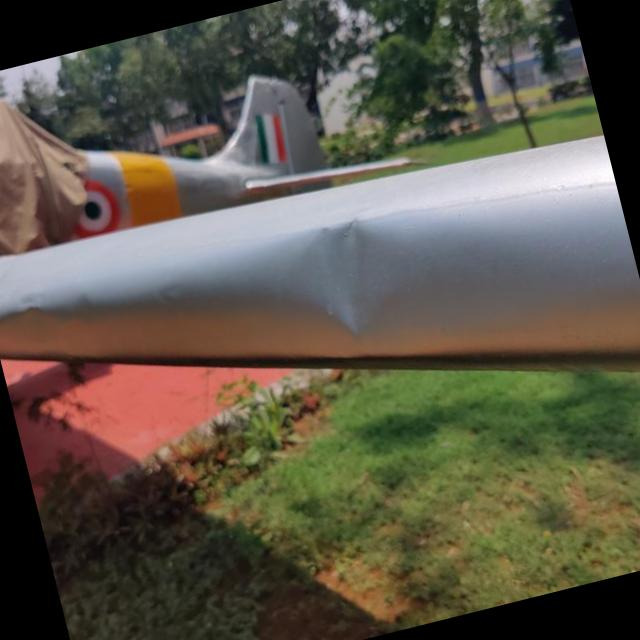Dent: (278, 204, 414, 338)
